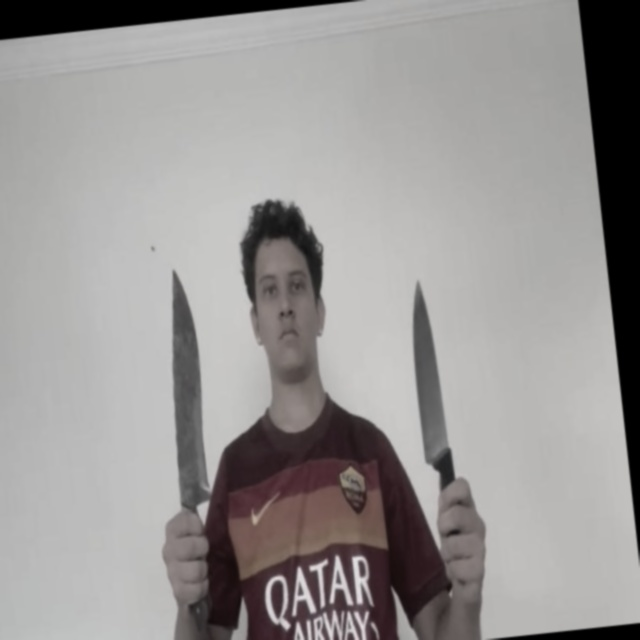Sharp-Object: (152, 265, 217, 509), (404, 278, 452, 456)
